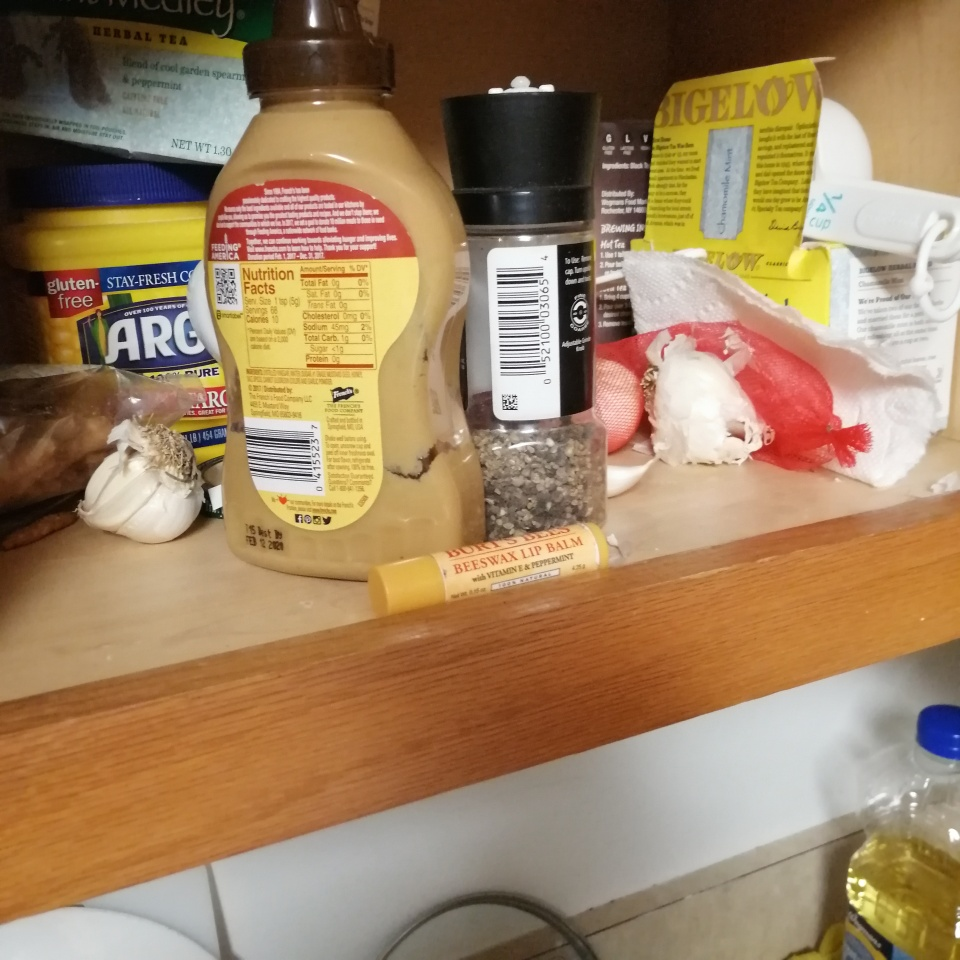chapstick: (366, 521, 610, 619)
